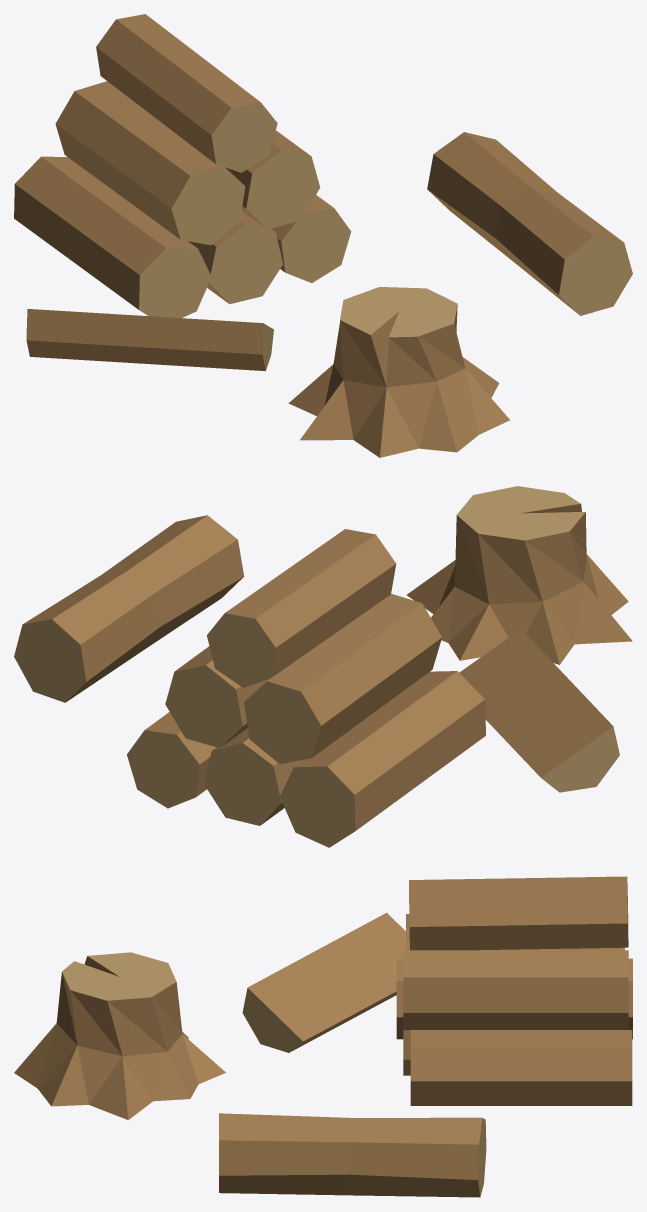
Rendered from bucheprefab.fbx.
The picture shows the model from 3 angles, top to bottom: view 1: azimuth 30°, elevation 25°; view 2: azimuth 150°, elevation 25°; view 3: azimuth 270°, elevation 25°; orthographic projection. The views are drawn at different scales.
Visible parts, largest first — view 1: buche2, BUCHE1, buche3; view 2: buche2, BUCHE1, buche3; view 3: buche2, BUCHE1, buche3.
Part boxes in pixels (x1,y1,x2,y2): buche2: (14, 14, 351, 370); BUCHE1: (288, 287, 509, 457); buche3: (427, 132, 632, 315); buche2: (127, 529, 619, 847); BUCHE1: (406, 486, 632, 664); buche3: (14, 515, 244, 702); buche2: (242, 876, 632, 1105); BUCHE1: (14, 952, 225, 1119); buche3: (219, 1113, 486, 1197).
Bounding box in the file's own units: 266 × 95.94 × 285.
